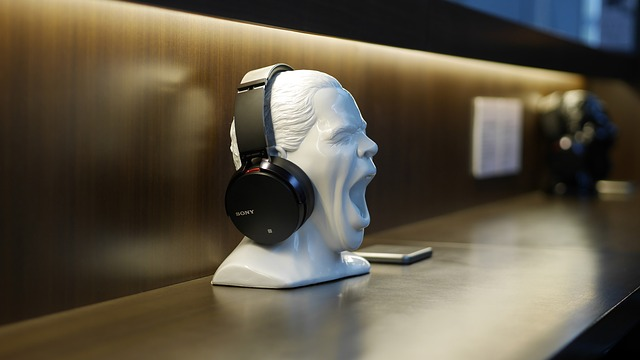headphones: (226, 63, 315, 247)
